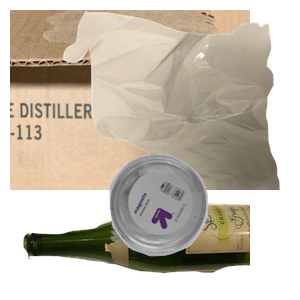cardboard: (10, 10, 250, 190)
glass: (21, 201, 261, 300)
plastic: (107, 152, 300, 300)
trash: (61, 10, 300, 190)
